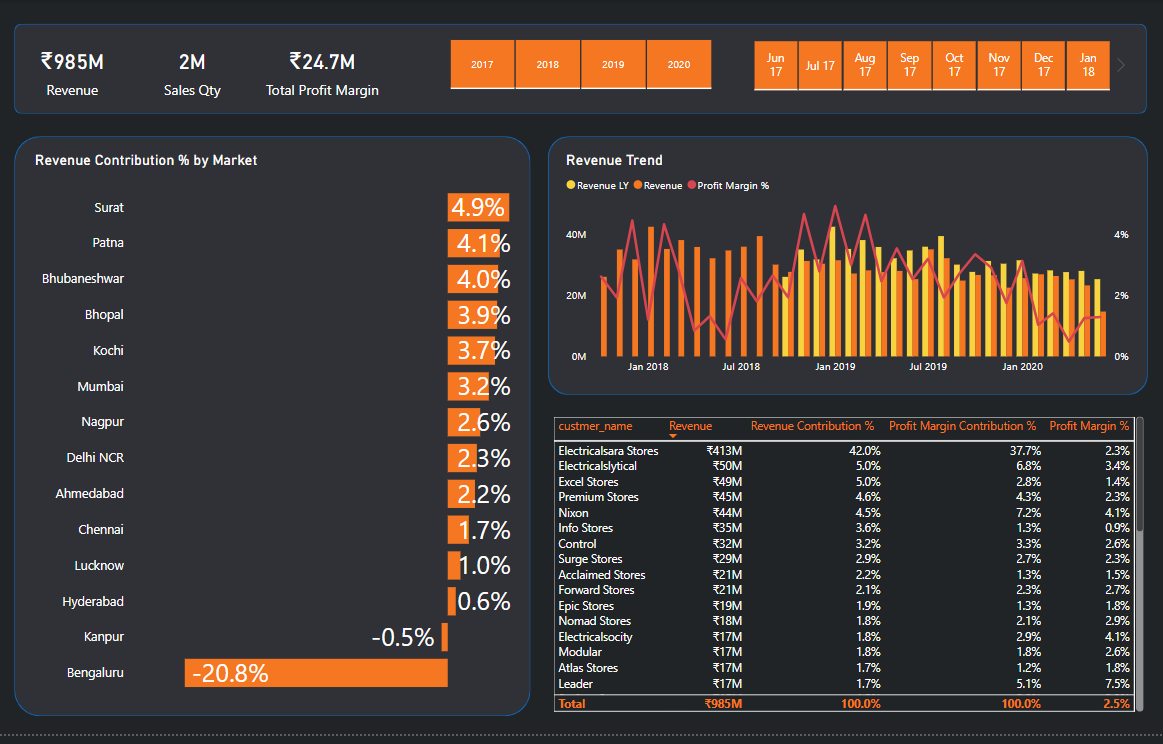

The page's visual inventory and layout, read from the dashboard file:
{"tool":"powerbi","page":{"name":"Profit Analysis","canvas":[1350,850],"ordinal":1},"visuals":[{"type":"shape","box":[740.3,132.8,593.1,303.1],"z":0},{"type":"shape","box":[18.8,132.8,705.7,689.8],"z":1000},{"type":"shape","box":[18.8,18.8,1314.7,98.1],"z":2000},{"type":"card","fields":{"Values":["BaseMeasures (2).Revenue"]},"box":[31.7,28.9,90.9,75],"z":3000},{"type":"card","fields":{"Values":["BaseMeasures (2).Sales Qty"]},"box":[153,28.9,82.3,75],"z":4000},{"type":"barChart","title":"Profit % by market","fields":{"Y":["BaseMeasures (2).Profit Margin %"],"Category":["sales markets.markets_name"]},"box":[474.8,171.7,229.5,640.7],"z":5000},{"type":"barChart","title":"Profit Contribution % by Market","fields":{"Y":["BaseMeasures (2).Profit Margin Contribution %"],"Category":["sales markets.markets_name"]},"box":[251.1,171.7,207.8,640.7],"z":6000},{"type":"slicer","fields":{"Values":["sales date.year"]},"box":[405.5,28.9,366.6,66.4],"z":7000},{"type":"slicer","fields":{"Values":["sales date.cy_date"]},"box":[754.8,28.9,568.6,66.4],"z":8000},{"type":"tableEx","title":"Top 5 Customers","fields":{"Values":["sales customers.custmer_name","BaseMeasures (2).Revenue","BaseMeasures (2).Revenue Contribution %","BaseMeasures (2).Profit Margin Contribution %","BaseMeasures (2).Profit Margin %"]},"box":[740.3,451.7,593.1,370.9],"z":9000},{"type":"card","fields":{"Values":["BaseMeasures (2).Total Profit Margin"]},"box":[249.7,30.3,155.9,75],"z":10000},{"type":"barChart","title":"Revenue Contribution % by Market","fields":{"Y":["BaseMeasures (2).Revenue Contribution %"],"Category":["sales markets.markets_name"]},"box":[31.7,171.7,206.4,640.7],"z":11000},{"type":"donutChart","fields":{"Y":["BaseMeasures (2).Sales Qty"],"Category":["sales markets.zone"]},"box":[754.8,148.6,568.6,277.1],"z":12000}]}

Visuals, with their boxes in screenshot pixels (x1, y1, x2, y2), scaled from the page's 1350x850 canvas onto the 1163x744 screenshot:
shape: 638, 116, 1149, 382
shape: 16, 116, 624, 720
shape: 16, 16, 1149, 102
card - BaseMeasures (2).Revenue: 27, 25, 106, 91
card - BaseMeasures (2).Sales Qty: 132, 25, 203, 91
"Profit % by market" barChart: 409, 150, 607, 711
"Profit Contribution % by Market" barChart: 216, 150, 395, 711
slicer - sales date.year: 349, 25, 665, 83
slicer - sales date.cy_date: 650, 25, 1140, 83
"Top 5 Customers" tableEx: 638, 395, 1149, 720
card - BaseMeasures (2).Total Profit Margin: 215, 27, 349, 92
"Revenue Contribution % by Market" barChart: 27, 150, 205, 711
donutChart - BaseMeasures (2).Sales Qty x sales markets.zone: 650, 130, 1140, 373
